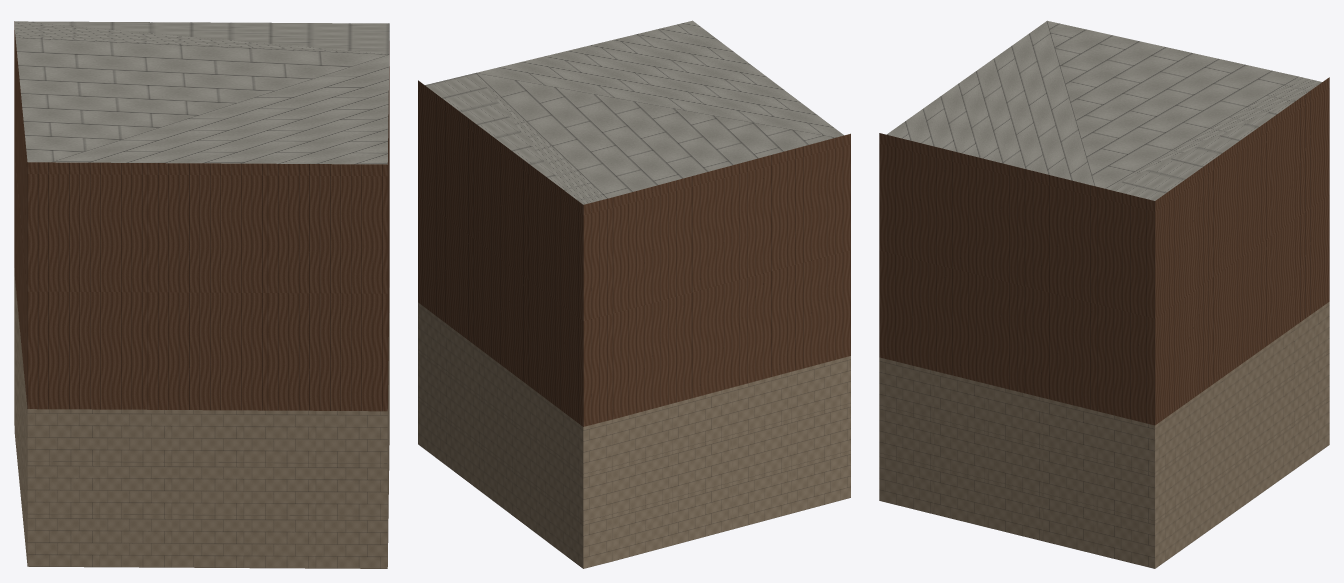
The model's file is bld_c37_48_195.gltf.
3 renders of one model, left to right at view 1: azimuth 30°, elevation 25°; view 2: azimuth 150°, elevation 25°; view 3: azimuth 270°, elevation 25°, orthographic. The views are drawn at different scales.
Visible parts, largest first — view 1: bld_c37_48_195; view 2: bld_c37_48_195; view 3: bld_c37_48_195.
Part boxes in pixels (x1,y1,x2,y2): bld_c37_48_195: (14, 21, 389, 568); bld_c37_48_195: (418, 20, 850, 568); bld_c37_48_195: (879, 20, 1329, 568).
Size of the model in its own units: 14.27 by 13.08 by 14.51.
4 materials, 4 textured.
